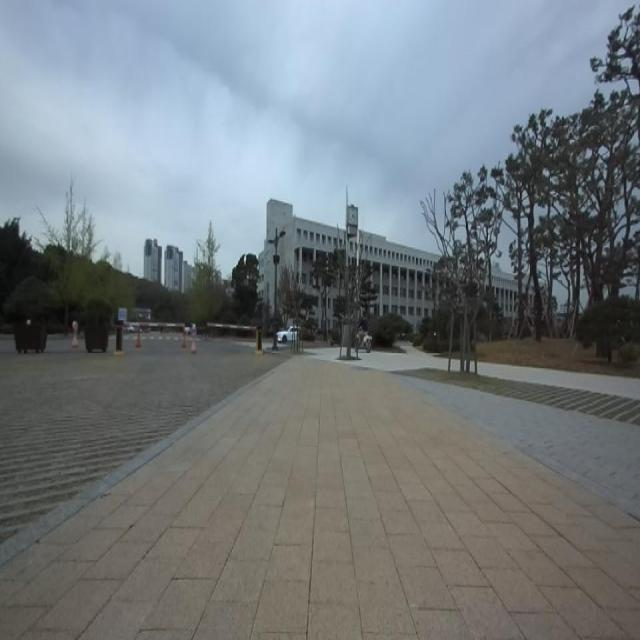sidewalk: (0, 356, 640, 639), (480, 364, 640, 399), (360, 346, 448, 371), (308, 345, 338, 361)
